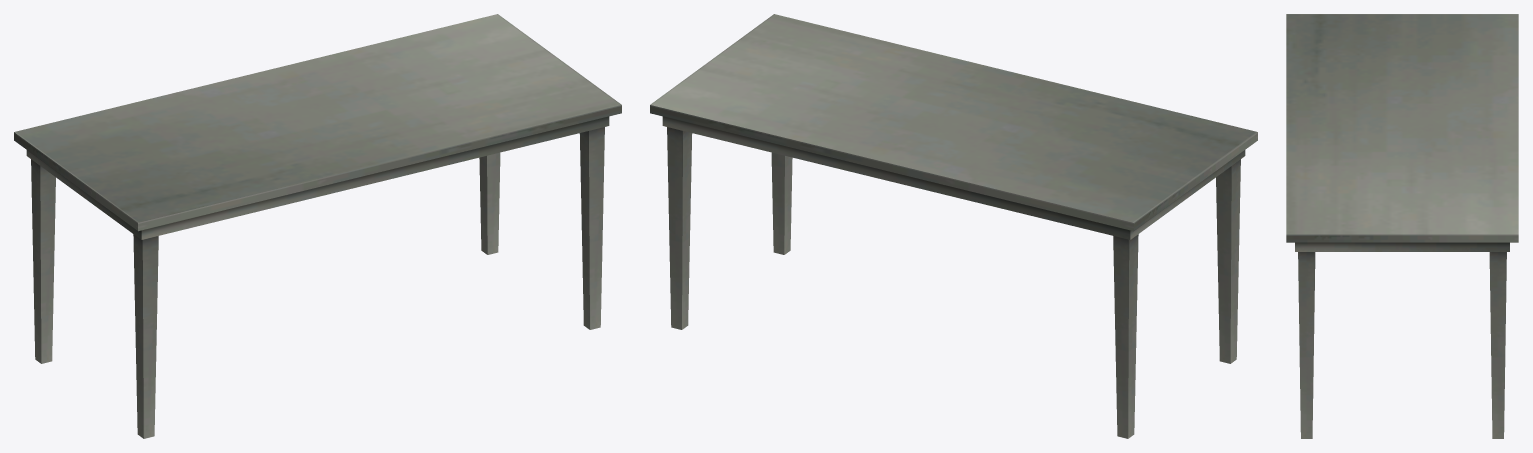
The model's file is table_silver.fbx.
3 renders of one model, left to right at view 1: azimuth 30°, elevation 25°; view 2: azimuth 150°, elevation 25°; view 3: azimuth 270°, elevation 25°, orthographic. The views are drawn at different scales.
Parts seen in each view (by area): view 1: mesh_0; view 2: mesh_0; view 3: mesh_0.
Part boxes in pixels (box(x1,y1,x2,y2)): mesh_0: box(14, 14, 621, 438); mesh_0: box(650, 14, 1257, 438); mesh_0: box(1286, 14, 1518, 438).
Bounding box in the file's own units: 180 × 80 × 80.
1 material, 1 textured.
